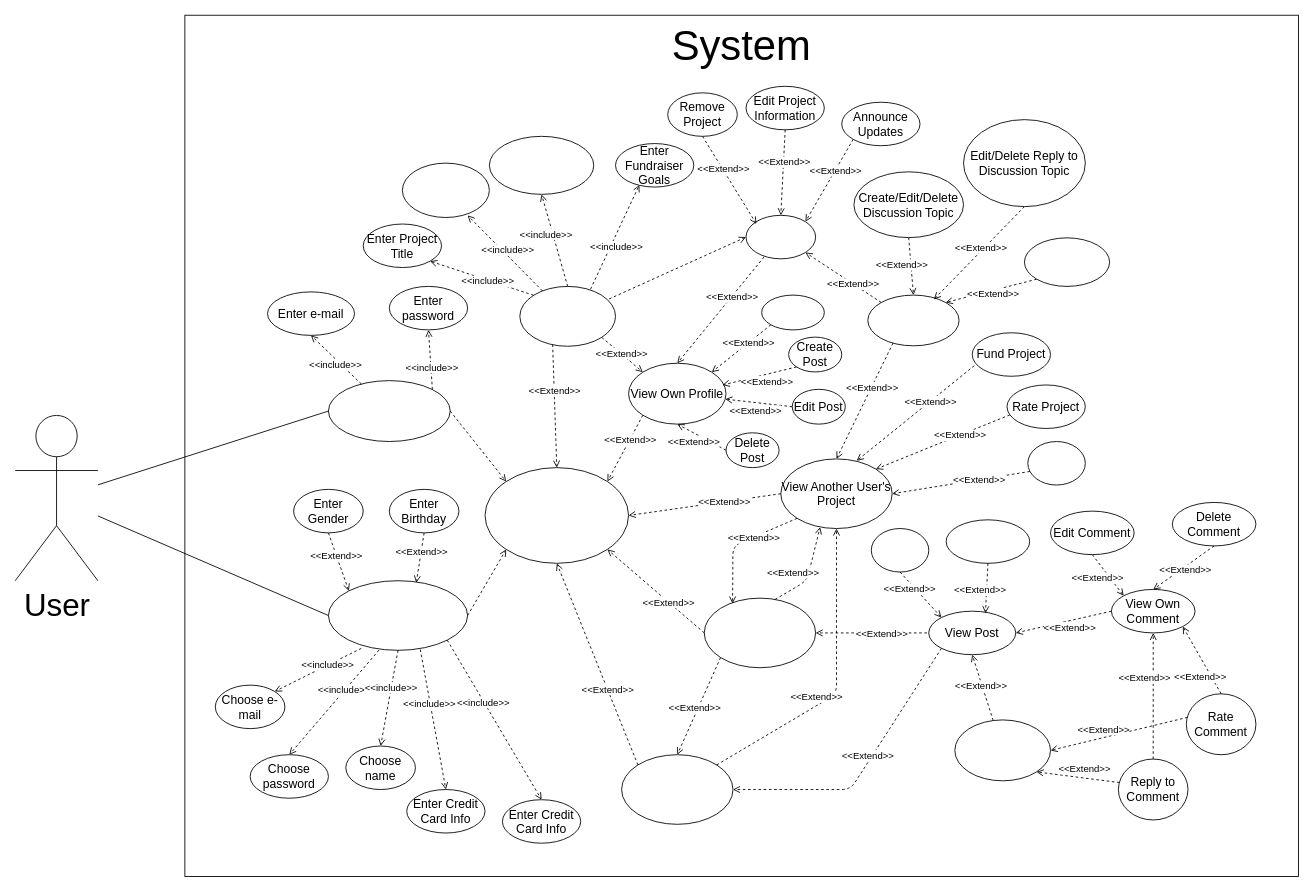
Some shapes in this 1314 by 892 pixel diagram are drawn without their labels. The shapes that lost their labels are listed below. From the top down, each one's centre as x and y in pixels, then its label:
At point 541,164: "Enter Detailed Information About Project".
At point 445,190: "Enter Project Summary".
At point 780,236: "View Own Project".
At point 1067,261: "Reply to Discussion Topic".
At point 567,316: "Publish Project".
At point 792,312: "Edit Profile".
At point 913,320: "Engage in Discussion".
At point 389,411: "Log in".
At point 1056,463: "Report Project".
At point 556,515: "Enter Home Page".
At point 899,550: "Rate Post".
At point 987,541: "Comment on Post".
At point 398,615: "Register".
At point 759,632: "View Another User's Profile".
At point 1002,750: "View Other User's Comment".
At point 677,789: "View Activity Page".
